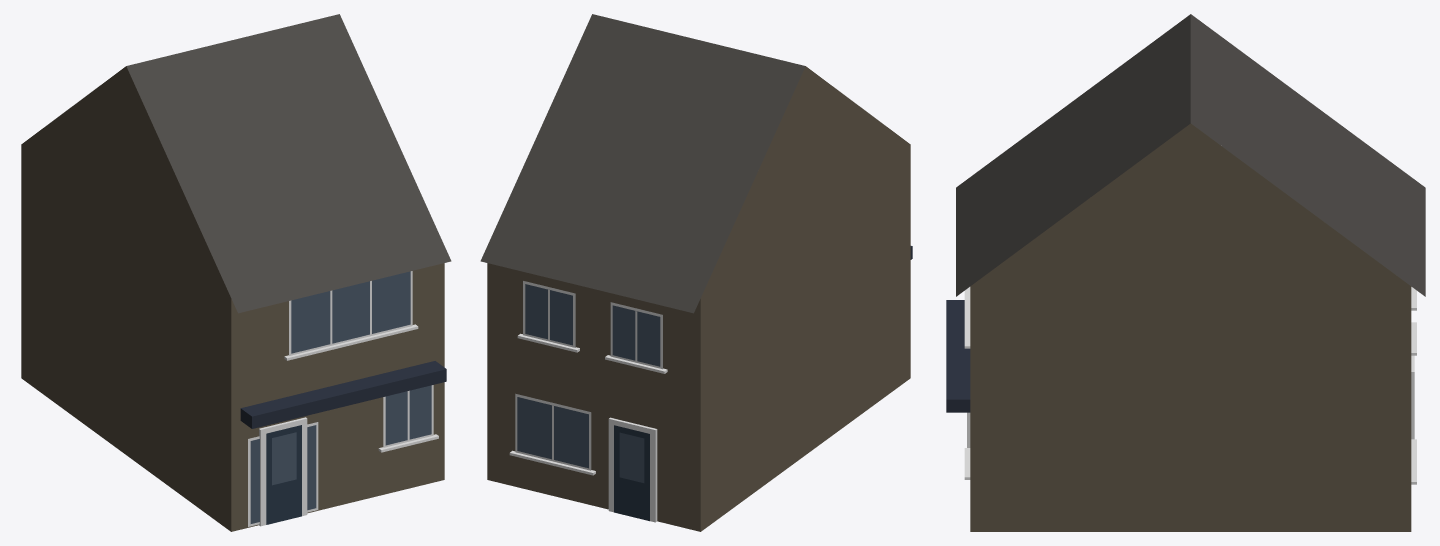
Rendered from nw-rowhouse-ribbon-fascia__navy__2__gable__long__solid.glb.
3 views of the same model, side by side, from view 1: azimuth 30°, elevation 25°; view 2: azimuth 150°, elevation 25°; view 3: azimuth 270°, elevation 25° (orthographic). The views are drawn at different scales.
Parts seen in each view (by area): view 1: nw-rowhouse-ribbon-fascia__navy__2__gable__long__solid; view 2: nw-rowhouse-ribbon-fascia__navy__2__gable__long__solid; view 3: nw-rowhouse-ribbon-fascia__navy__2__gable__long__solid.
Part boxes in pixels (box(x1,y1,x2,y2)): nw-rowhouse-ribbon-fascia__navy__2__gable__long__solid: box(21, 14, 451, 531); nw-rowhouse-ribbon-fascia__navy__2__gable__long__solid: box(480, 14, 912, 531); nw-rowhouse-ribbon-fascia__navy__2__gable__long__solid: box(946, 14, 1425, 531).
Size of the model in its own units: 5.37 by 9.36 by 9.95.
